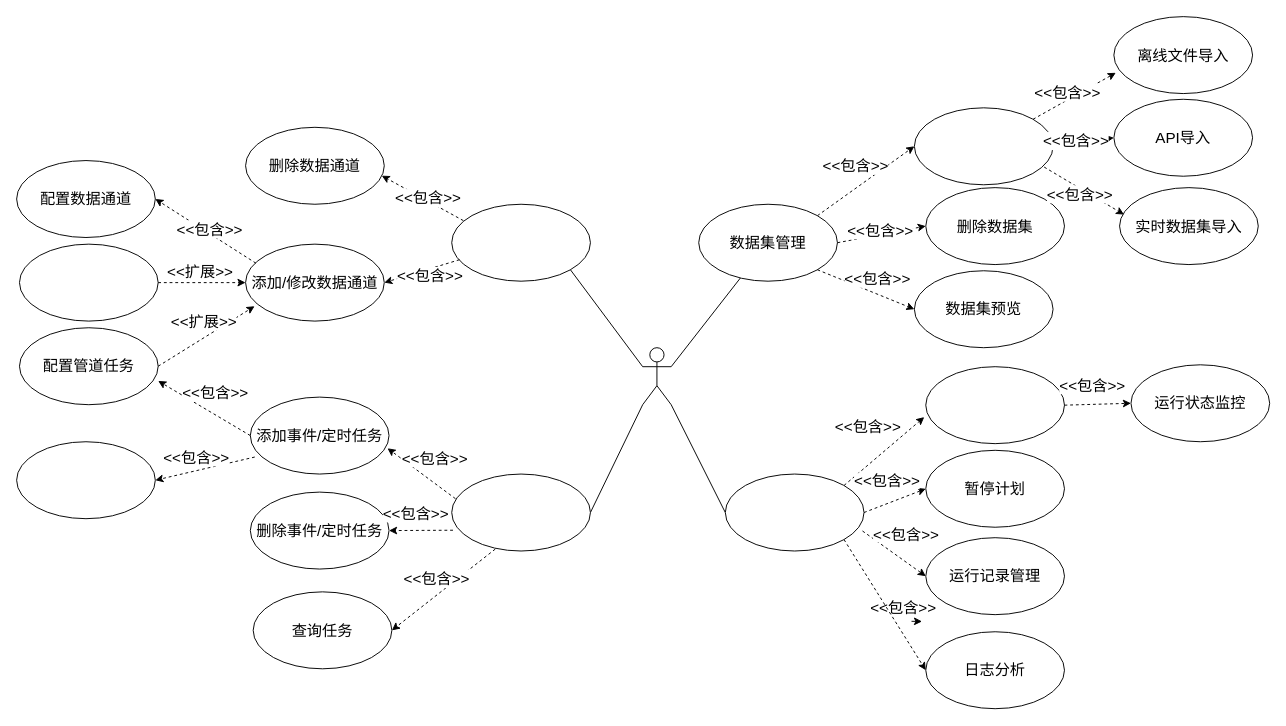
The diagram is 1286 pixels wide and 726 high, and some of its shapes have lost their labels. The shapes that lost their labels are listed below. From the top down, each one's centre as x and y in pixels, then its label:
(x=983, y=146): 添加数据集
(x=520, y=242): 数据通道管理
(x=88, y=282): 测试连接
(x=656, y=376): 用户
(x=994, y=405): 执行调度计划
(x=85, y=480): 执行条件配置
(x=520, y=512): 任务调度
(x=794, y=512): 任务运维管理
